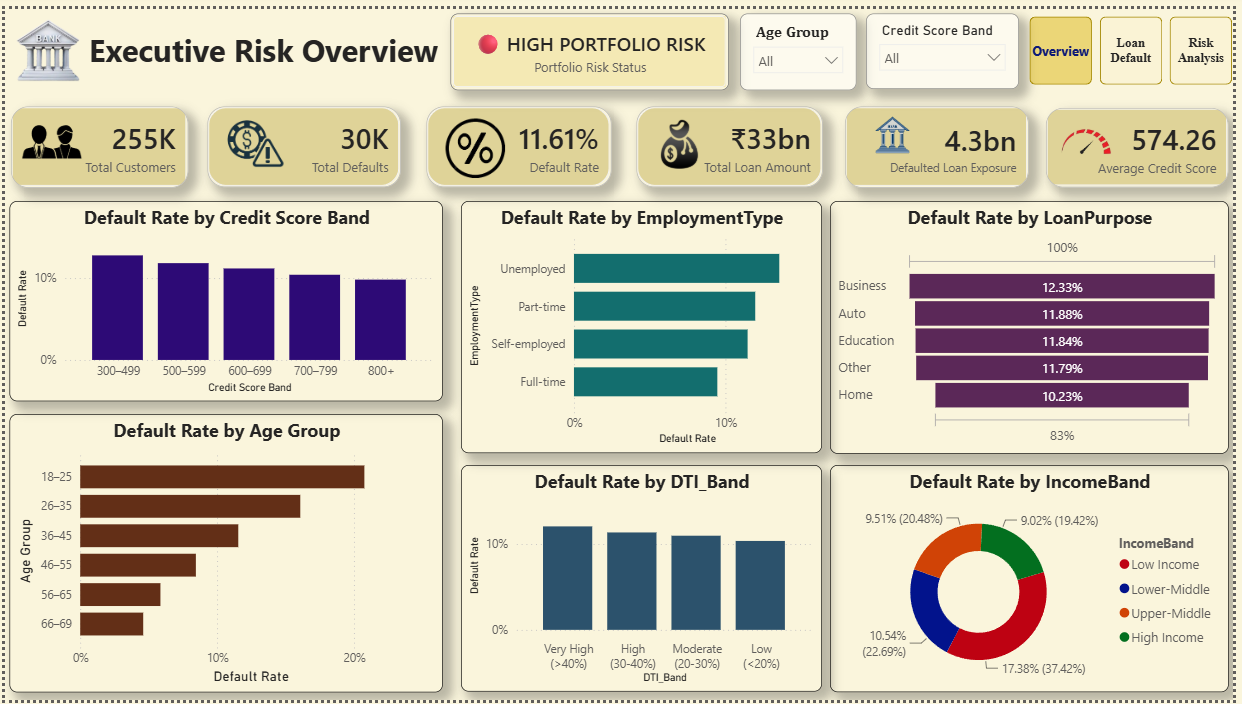

Layout of this report page (visuals, bound fields, positions):
{"tool":"powerbi","page":{"name":"Overview","canvas":[1280,720],"ordinal":0},"visuals":[{"type":"cardVisual","fields":{"Data":["loan_data.Total Customers"]},"box":[5.6,101.1,184.4,84.4],"z":0},{"type":"cardVisual","fields":{"Data":["loan_data.Portfolio Risk Status"]},"box":[464.8,4.2,290.1,80.3],"z":1000},{"type":"cardVisual","fields":{"Data":["loan_data.Total Defaults"]},"box":[211.4,101.4,201.4,84.3],"z":2000},{"type":"columnChart","fields":{"Category":["loan_data.Credit Score Band"],"Y":["loan_data.Default Rate"]},"box":[4.3,200,451.4,208.6],"z":3000},{"type":"cardVisual","fields":{"Data":["loan_data.Total Loan Amount"]},"box":[657.1,101.4,194.3,84.3],"z":4000},{"type":"clusteredColumnChart","fields":{"Category":["loan_data.DTI_Band"],"Y":["loan_data.Default Rate"]},"box":[474.3,475.7,375.7,235.7],"z":5000},{"type":"cardVisual","fields":{"Data":["loan_data.Default Rate"]},"box":[438.6,101.4,192.9,84.3],"z":6000},{"type":"funnel","fields":{"Category":["loan_data.LoanPurpose"],"Y":["loan_data.Default Rate"]},"box":[860,200,415,263.3],"z":7000},{"type":"cardVisual","fields":{"Data":["loan_data.Average Credit Score"]},"box":[1084.3,102.9,190,82.9],"z":8000},{"type":"barChart","fields":{"Category":["loan_data.EmploymentType"],"Y":["loan_data.Default Rate"]},"box":[474.3,200,375.7,262.9],"z":9000},{"type":"cardVisual","fields":{"Data":["loan_data.Defaulted Loan Exposure"]},"box":[875.6,101.1,191.1,84.4],"z":10000},{"type":"clusteredBarChart","fields":{"Y":["loan_data.Default Rate"],"Category":["loan_data.Age Group"]},"box":[4.3,421.4,451.4,290],"z":11000},{"type":"donutChart","fields":{"Category":["loan_data.IncomeBand"],"Y":["loan_data.Default Rate"]},"box":[860,475,415,236.7],"z":12000},{"type":"textbox","box":[10,15,446.7,65],"z":13000},{"type":"slicer","fields":{"Values":["loan_data.Age Group"]},"box":[766.2,4.2,121.1,80.3],"z":14000},{"type":"slicer","fields":{"Values":["loan_data.Credit Score Band"]},"box":[897.2,4.2,159.2,78.9],"z":15000},{"type":"image","box":[0,8.3,90,75],"z":16000},{"type":"image","box":[16.7,104.4,63.3,65.6],"z":17000},{"type":"image","box":[230,111.1,61.1,58.9],"z":18000},{"type":"image","box":[456.7,113.3,67.8,62.2],"z":19000},{"type":"image","box":[662.2,100,80,81.1],"z":20000},{"type":"image","box":[887.8,106.7,74.4,50],"z":21000},{"type":"image","box":[1073.3,93.3,105.6,88.9],"z":22000},{"type":"pageNavigator","box":[1067.6,8.5,212.7,71.8],"z":23000}]}

Visuals, with their boxes in screenshot pixels (x1, y1, x2, y2), scaled from the page's 1280x720 canvas onto the 1242x704 screenshot:
cardVisual - loan_data.Total Customers: region(5, 99, 184, 181)
cardVisual - loan_data.Portfolio Risk Status: region(451, 4, 732, 83)
cardVisual - loan_data.Total Defaults: region(205, 99, 401, 182)
columnChart - loan_data.Credit Score Band x loan_data.Default Rate: region(4, 196, 442, 400)
cardVisual - loan_data.Total Loan Amount: region(638, 99, 826, 182)
clusteredColumnChart - loan_data.DTI_Band x loan_data.Default Rate: region(460, 465, 825, 696)
cardVisual - loan_data.Default Rate: region(426, 99, 613, 182)
funnel - loan_data.LoanPurpose x loan_data.Default Rate: region(834, 196, 1237, 453)
cardVisual - loan_data.Average Credit Score: region(1052, 101, 1236, 182)
barChart - loan_data.EmploymentType x loan_data.Default Rate: region(460, 196, 825, 453)
cardVisual - loan_data.Defaulted Loan Exposure: region(850, 99, 1035, 181)
clusteredBarChart - loan_data.Default Rate x loan_data.Age Group: region(4, 412, 442, 696)
donutChart - loan_data.IncomeBand x loan_data.Default Rate: region(834, 464, 1237, 696)
textbox: region(10, 15, 443, 78)
slicer - loan_data.Age Group: region(743, 4, 861, 83)
slicer - loan_data.Credit Score Band: region(871, 4, 1025, 81)
image: region(0, 8, 87, 81)
image: region(16, 102, 78, 166)
image: region(223, 109, 282, 166)
image: region(443, 111, 509, 172)
image: region(643, 98, 720, 177)
image: region(861, 104, 934, 153)
image: region(1041, 91, 1144, 178)
pageNavigator: region(1036, 8, 1241, 79)
